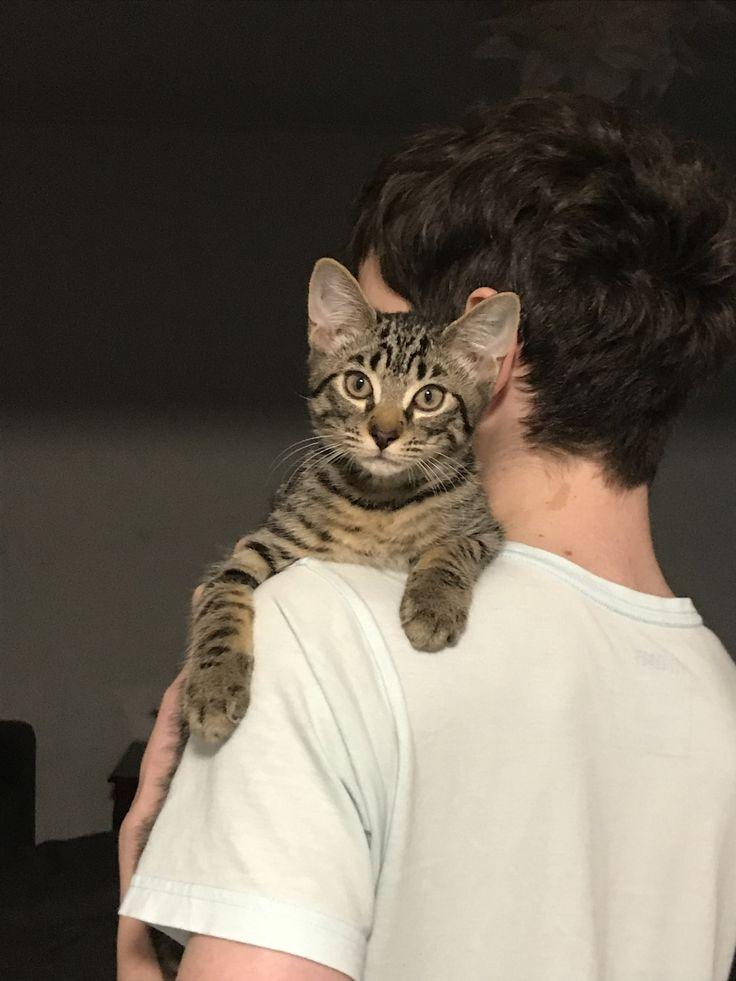kedo: (196, 254, 522, 746)
